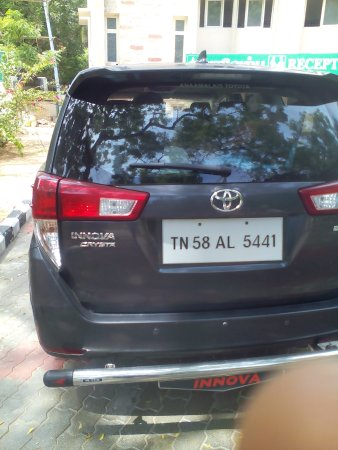T: (169, 230, 180, 251)
